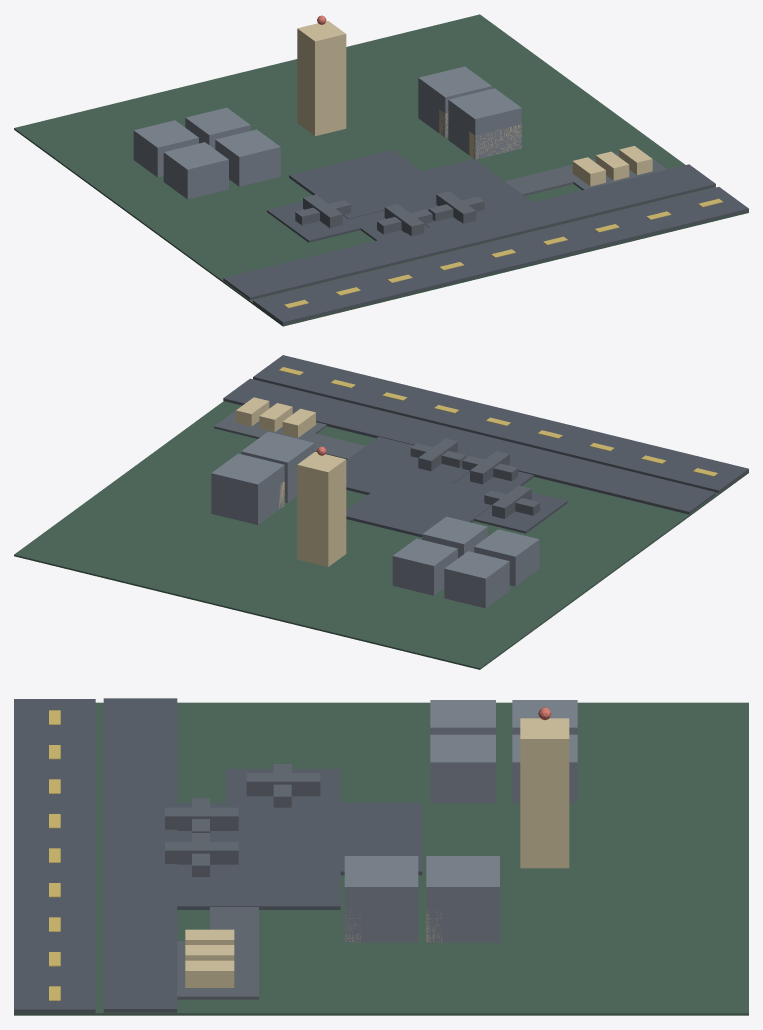
File: stage_15.glb
3 renders of one model, top to bottom at view 1: azimuth 30°, elevation 25°; view 2: azimuth 150°, elevation 25°; view 3: azimuth 270°, elevation 25°, orthographic. The views are drawn at different scales.
Visible parts, largest first — view 1: geometry_0; view 2: geometry_0; view 3: geometry_0.
Part boxes in pixels (<box>): geometry_0: <box>14,14,748,326</box>; geometry_0: <box>14,355,748,669</box>; geometry_0: <box>14,698,748,1015</box>.
Size of the model in its own units: 9 by 2.06 by 9.
